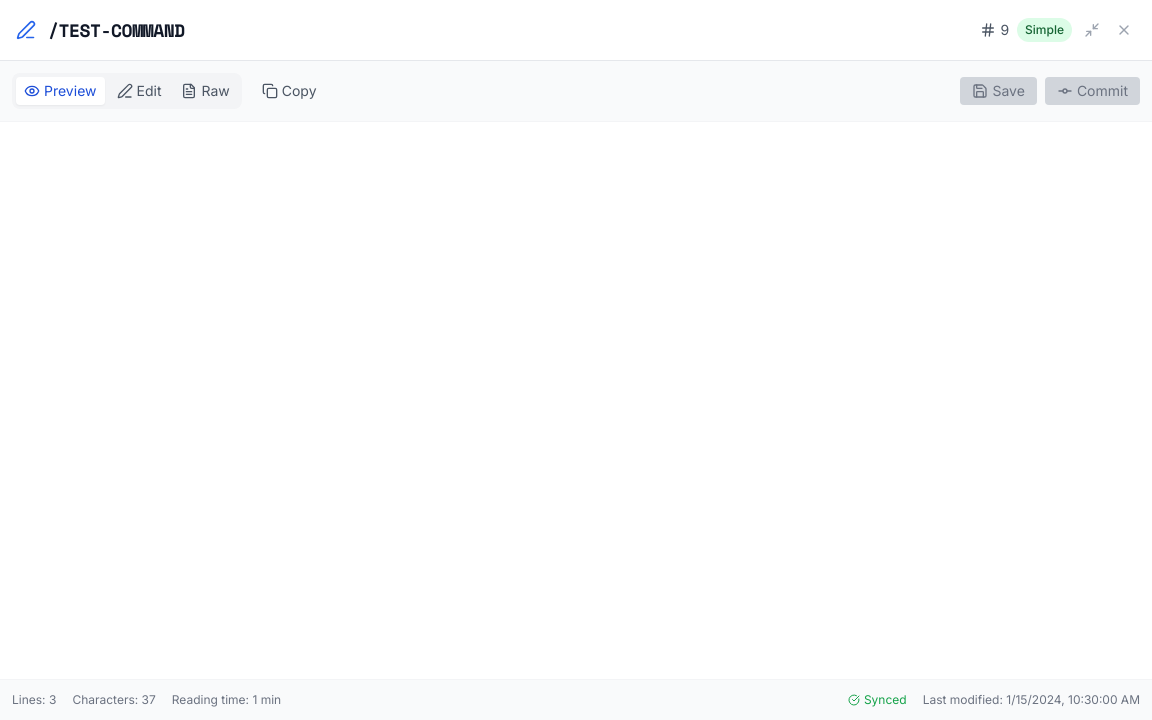
CommandEditor Component › Copy Content › should show success message after copying
Expected: the text "Copy" is shown, x1=282 y1=81 x2=316 y2=101
Click the button "Copy" at [289, 91], box x1=250 y1=77 x2=328 y2=105
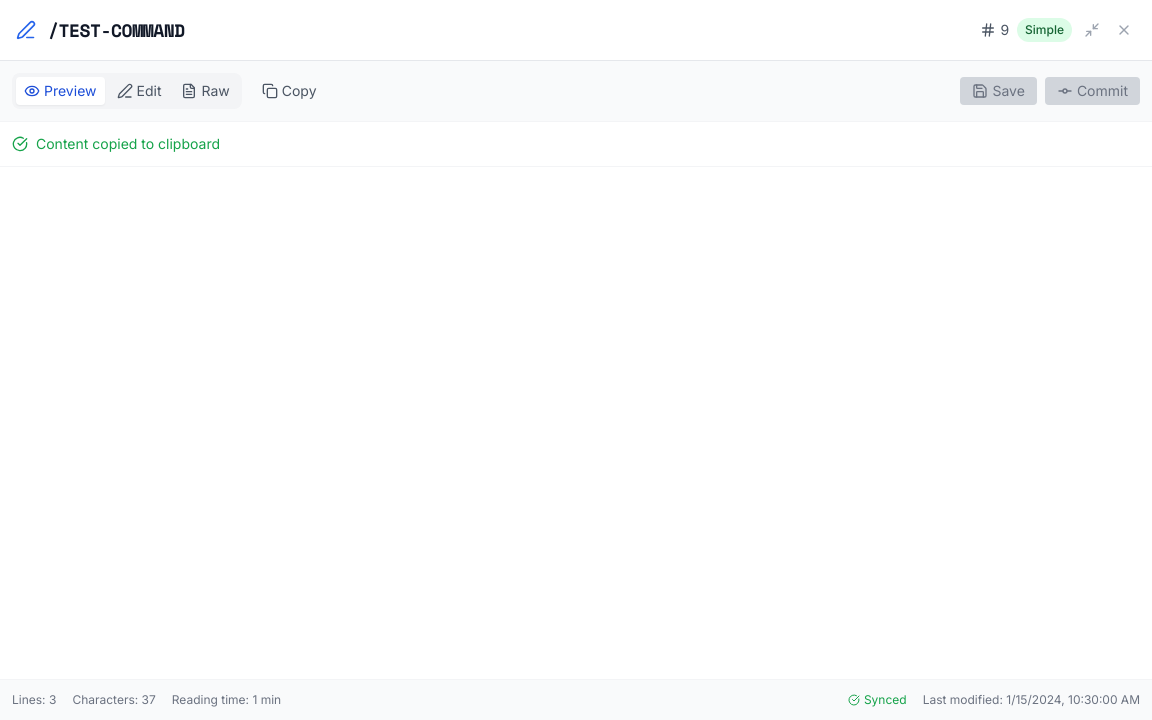
Result: the text "Content copied to clipboard" is shown at x1=36 y1=134 x2=220 y2=154
